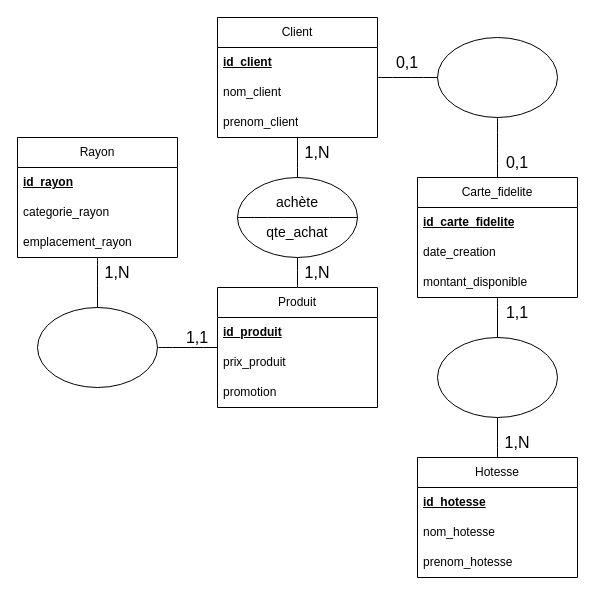
This 595x595 diagram has some shape labels left out. The shapes that lost their labels are listed below. From the top down, each one's box as (x1, y1, x2, y2) in pixels, then its label:
(436, 36, 558, 118): Appartient
(36, 306, 158, 388): Contient
(436, 336, 558, 418): Crée
